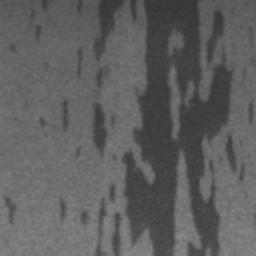Red iron sheet: (60, 0, 253, 256), (92, 102, 106, 159), (3, 196, 17, 223), (61, 100, 69, 132), (35, 24, 41, 40), (38, 118, 45, 127), (41, 0, 47, 9)
